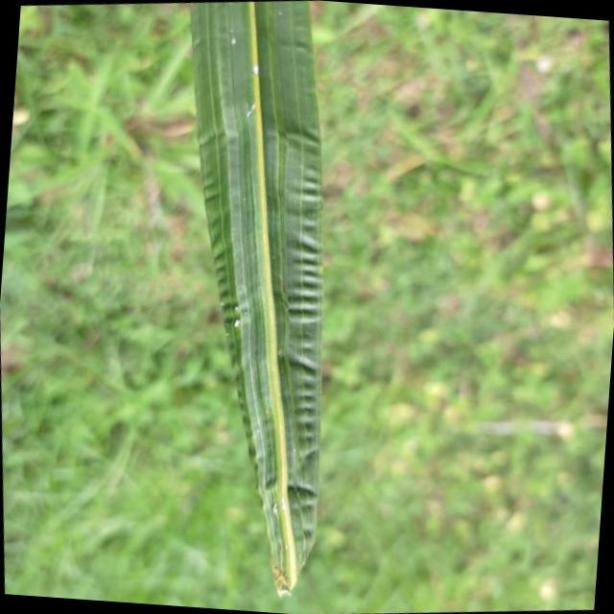Boron: (186, 0, 326, 600)
